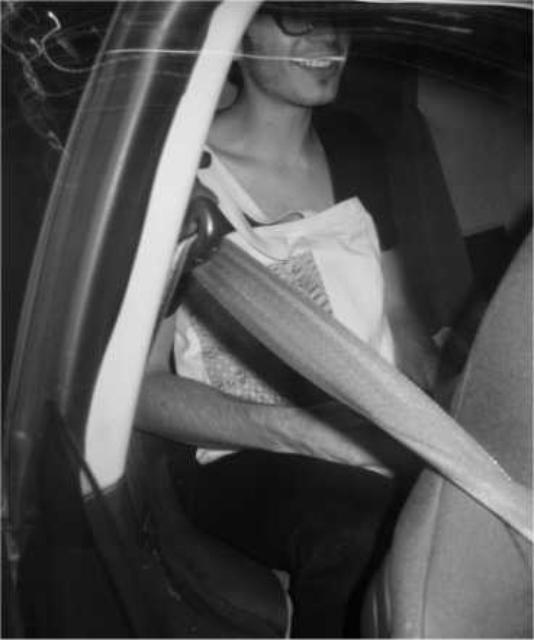Seatbelt: (179, 196, 534, 555)
